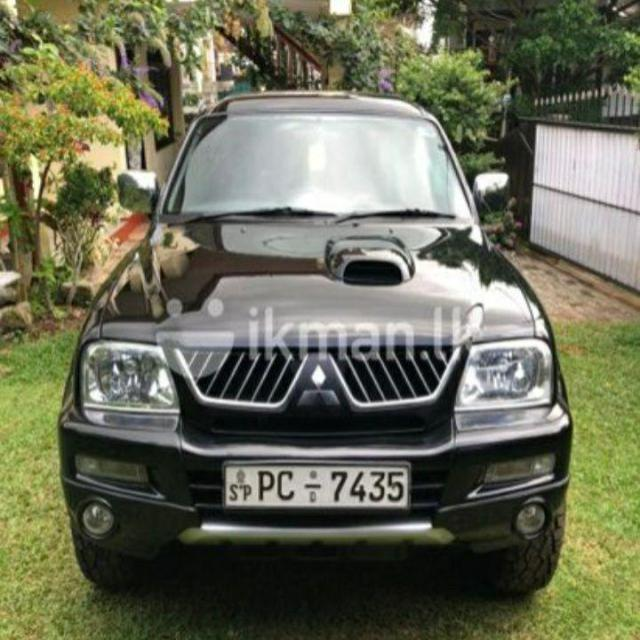license-plate: (223, 463, 407, 507)
